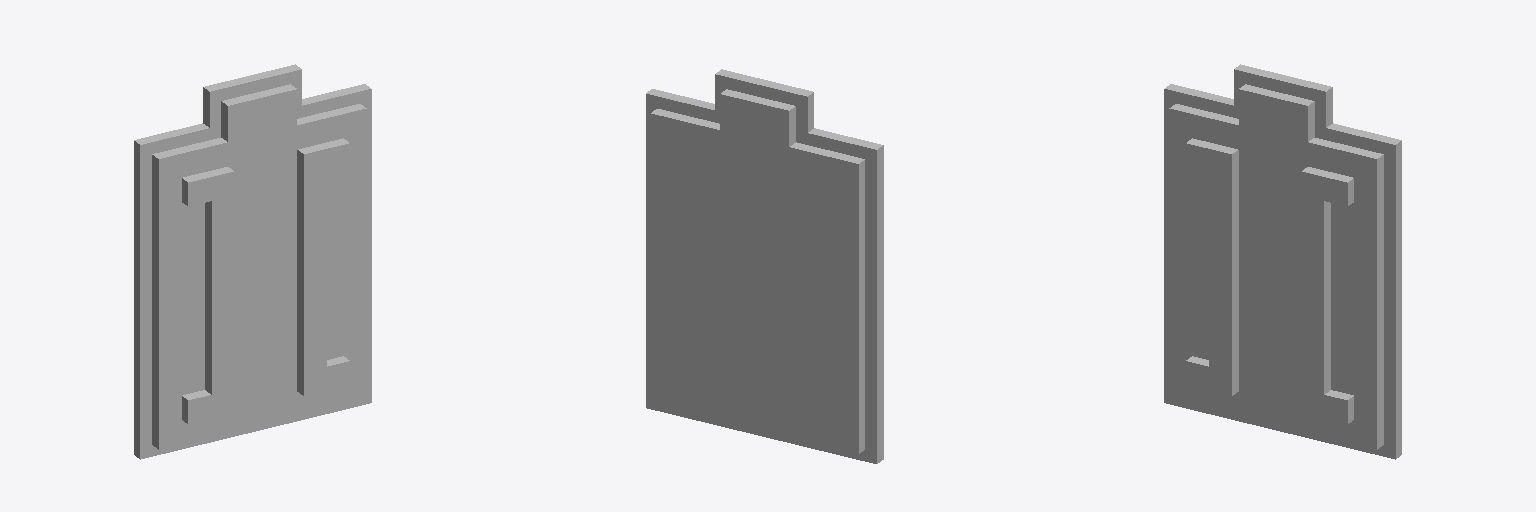
Rendered from 04_cave_02_octopus_door_2X.obj.
3 renders of one model, left to right at view 1: azimuth 30°, elevation 25°; view 2: azimuth 150°, elevation 25°; view 3: azimuth 330°, elevation 25°, orthographic.
Size of the model in its own units: 20 by 29 by 4.